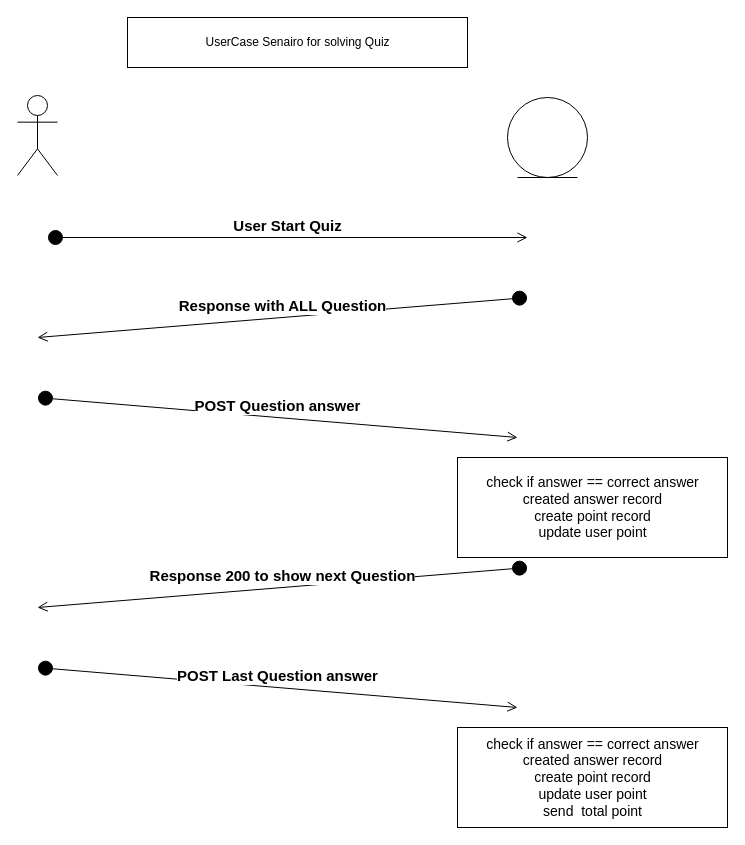
The diagram is 745 pixels wide and 845 high, and some of its shapes have lost their labels. The shapes that lost their labels are listed below. From the top down, each one's centre as x and y in pixels, then its label:
At (37,135): "User".
At (547,137): "system".
